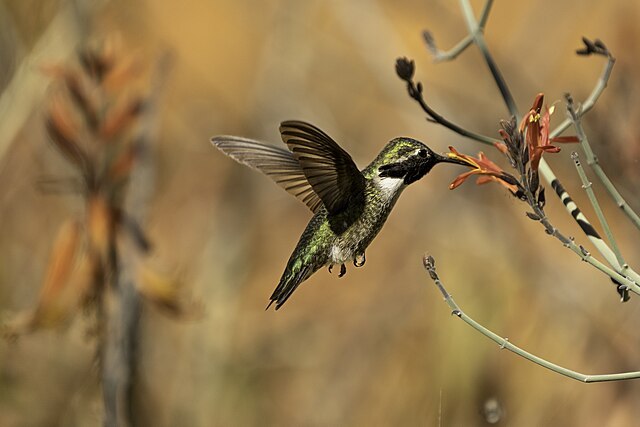calypte costae: (202, 119, 485, 310)
